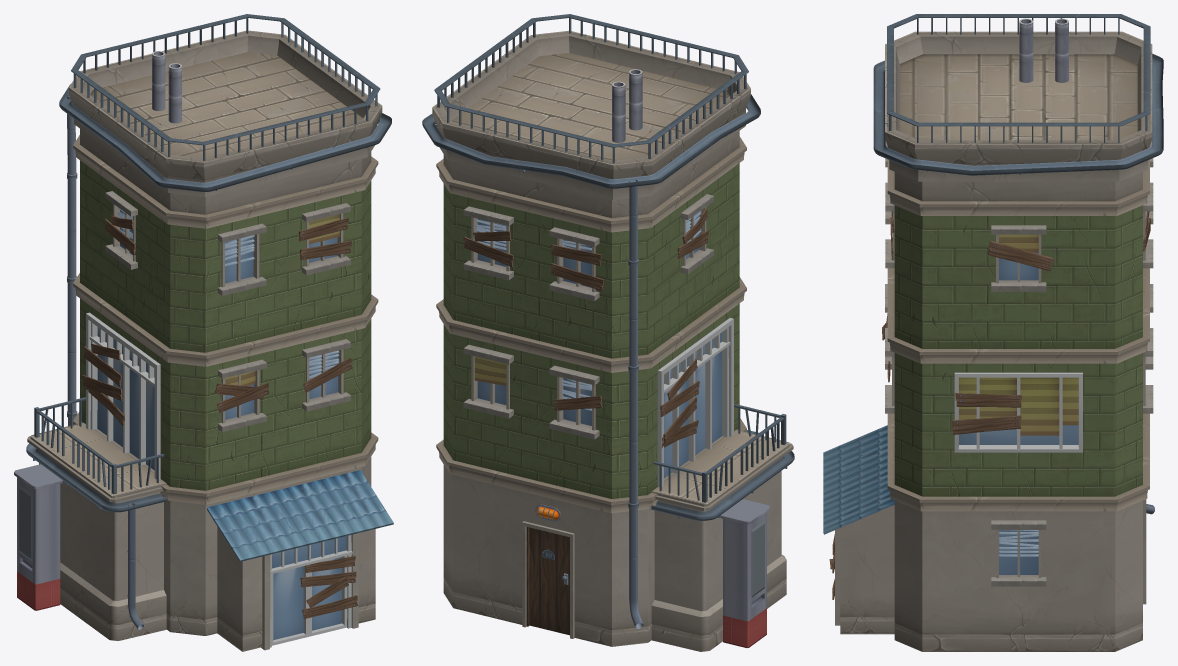
Rendered from Building_02_2.fbx.
The picture shows the model from 3 angles, left to right: view 1: azimuth 30°, elevation 25°; view 2: azimuth 150°, elevation 25°; view 3: azimuth 270°, elevation 25°; orthographic projection. The views are drawn at different scales.
Parts seen in each view (by area): view 1: polySurface1533; view 2: polySurface1533; view 3: polySurface1533.
Part boxes in pixels (bbox=[...]): polySurface1533: bbox=[14, 14, 393, 651]; polySurface1533: bbox=[422, 14, 794, 651]; polySurface1533: bbox=[823, 14, 1163, 651].
Size of the model in its own units: 736 by 1211 by 673.
